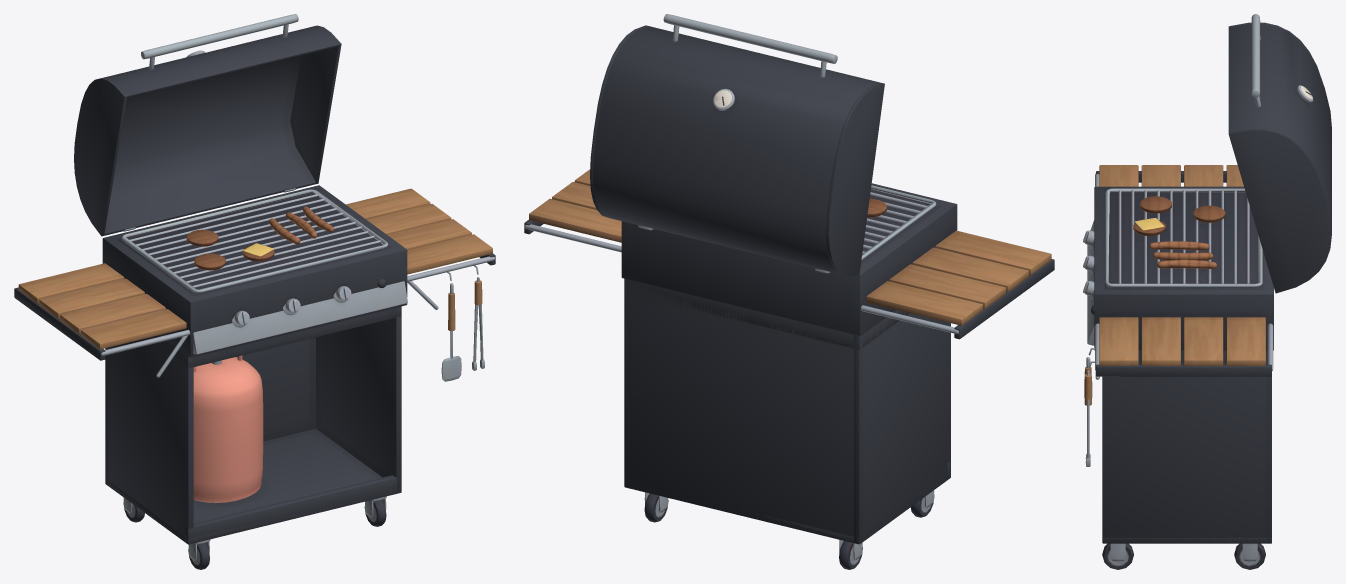
The model's file is g3d_gas_grill.glb.
3 views of the same model, side by side, from view 1: azimuth 30°, elevation 25°; view 2: azimuth 150°, elevation 25°; view 3: azimuth 270°, elevation 25° (orthographic). The views are drawn at different scales.
Visible parts, largest first — view 1: gas-grill_body, gas-grill_hood_lo, gas-grill_hood, gas-grill_body_lo; view 2: gas-grill_body, gas-grill_hood, gas-grill_body_lo; view 3: gas-grill_body, gas-grill_hood, gas-grill_body_lo.
Boxes of the visible parts, left/top/right/bottom form: gas-grill_body: left=14, top=185, right=495, bottom=569; gas-grill_hood_lo: left=104, top=55, right=315, bottom=233; gas-grill_hood: left=74, top=14, right=341, bottom=236; gas-grill_body_lo: left=118, top=189, right=481, bottom=565; gas-grill_body: left=524, top=169, right=1054, bottom=569; gas-grill_hood: left=590, top=14, right=884, bottom=276; gas-grill_body_lo: left=624, top=185, right=939, bottom=564; gas-grill_body: left=1083, top=165, right=1273, bottom=569; gas-grill_hood: left=1228, top=14, right=1331, bottom=293; gas-grill_body_lo: left=1091, top=189, right=1260, bottom=565.
Bounding box in the file's own units: 1.48 × 1.66 × 0.7921.
Materials: 2 (2 with a texture image).
